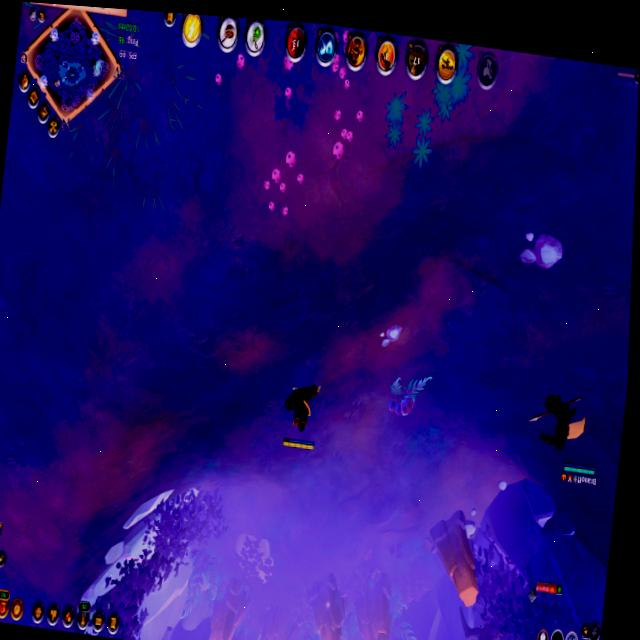red: (519, 381, 610, 497), (272, 372, 326, 458)
tree: (418, 495, 494, 615), (336, 553, 408, 640), (294, 565, 356, 640), (195, 569, 257, 640), (252, 599, 306, 640)
